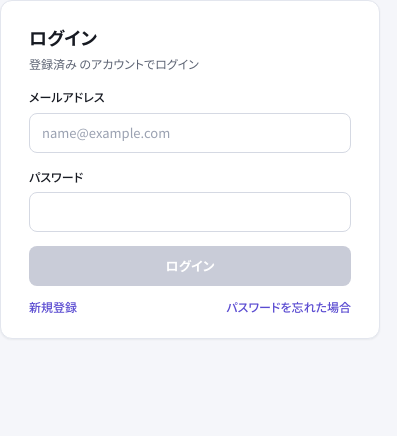
Test: LoginView › shows a generic message for wrong credentials
Type "alice@example.com" into the field labelled "メールアドレス".
click(190, 133); type("alice@example.com")  # box [29,113,351,153]
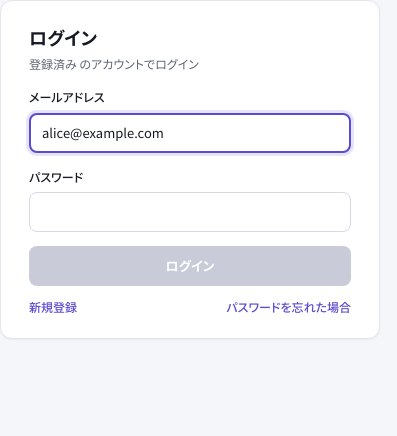
Type "wrong" into the password field labelled "パスワード".
click(190, 212); type("wrong")  # box [29,192,351,232]
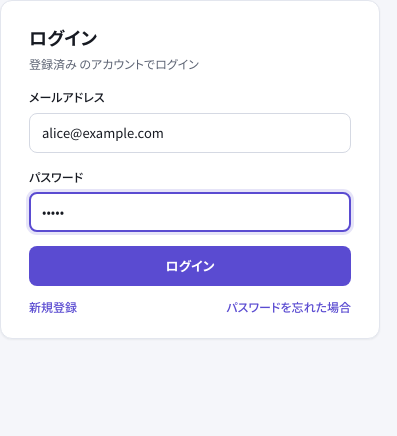
Click the button "ログイン".
click(190, 266)  # box [29,246,351,286]
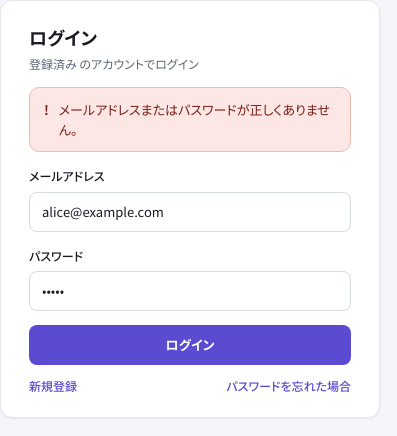
Now the text "メールアドレスまたはパスワードが正しくありません。" is shown, box [59,100,336,139]
